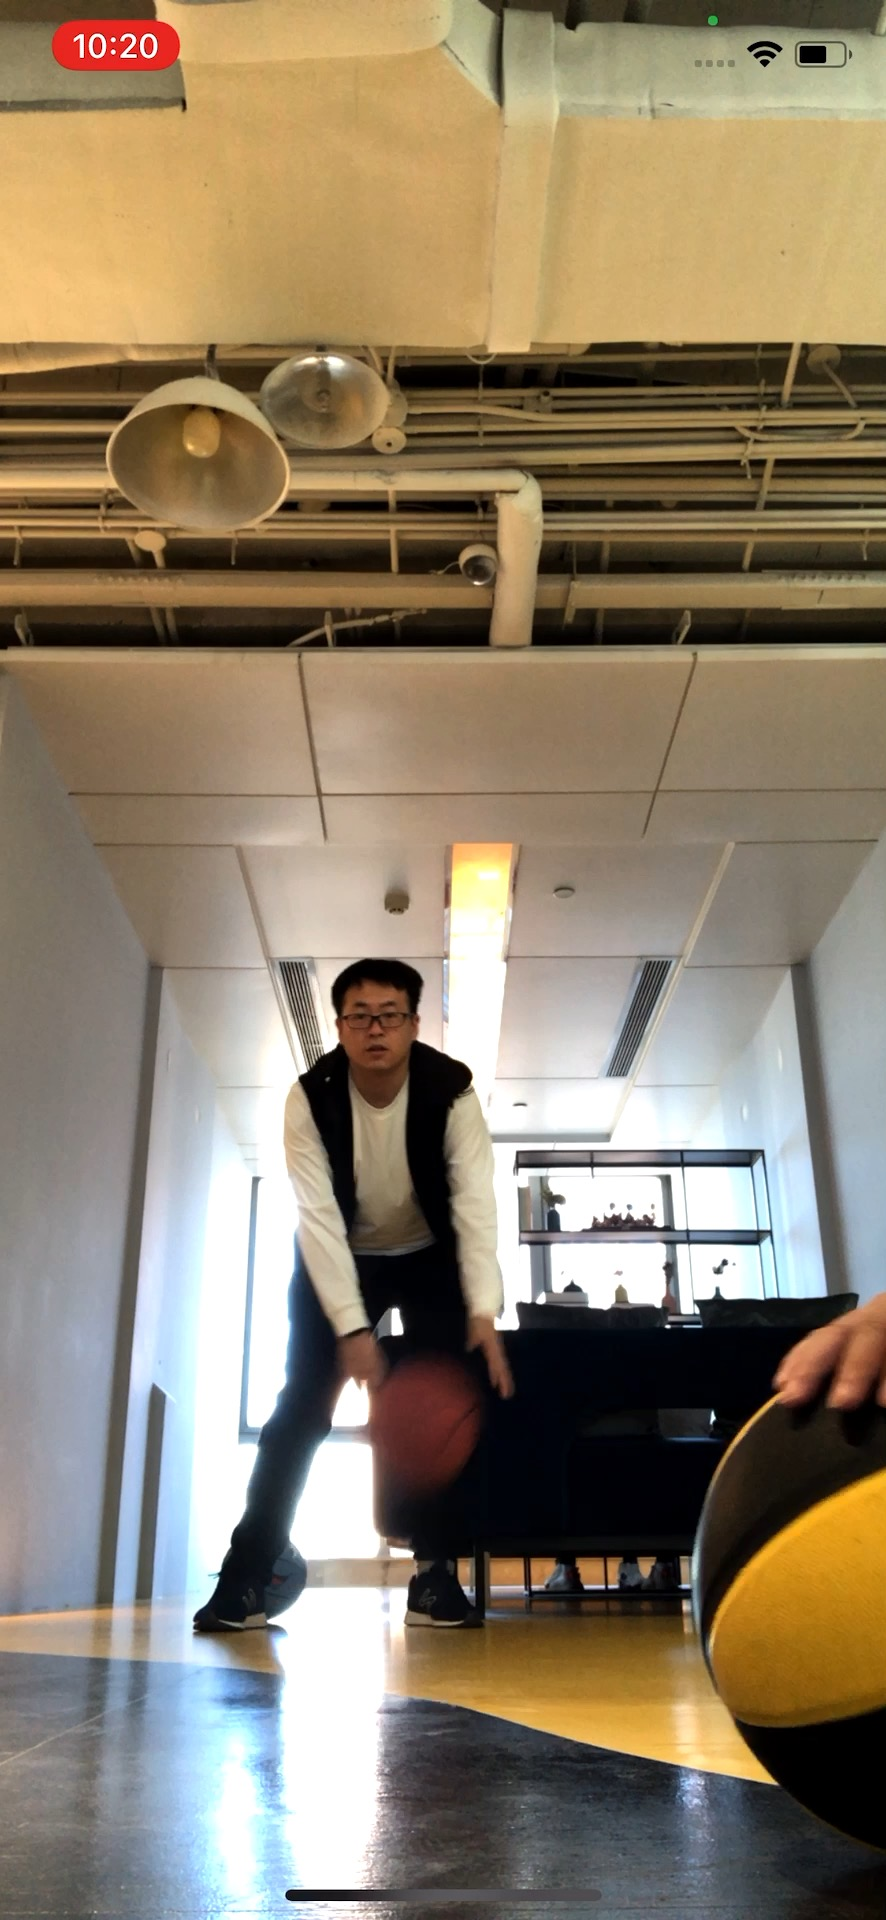ball: (690, 1360, 884, 1859), (365, 1363, 474, 1484)
